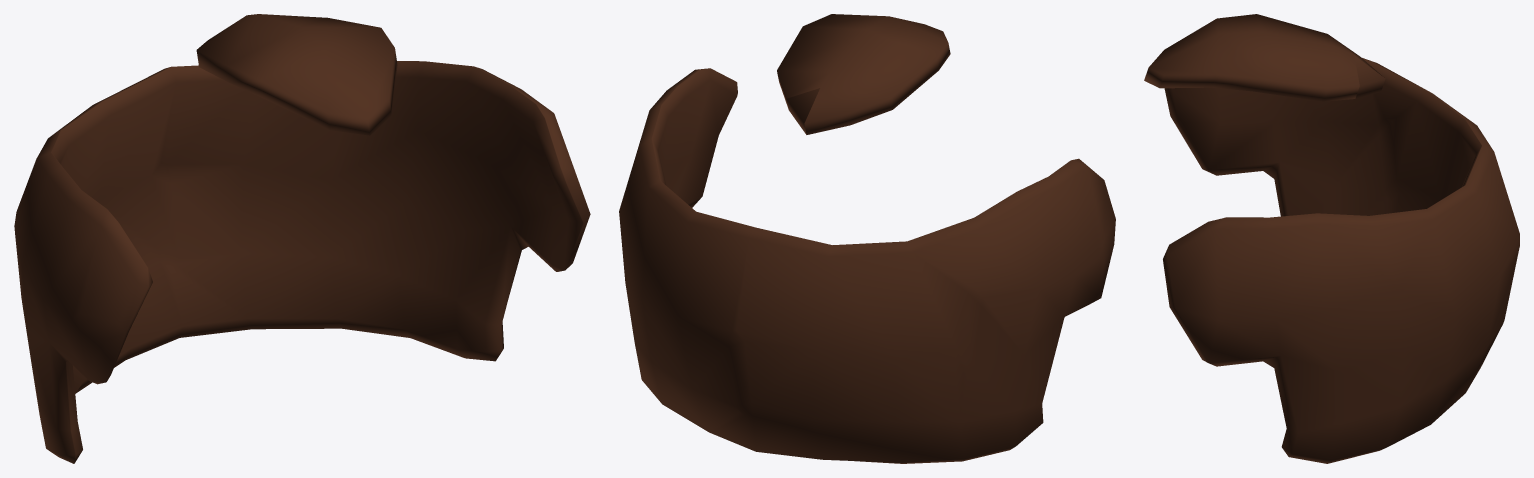
File: aa-hair-short-baldtop.glb
The picture shows the model from 3 angles, left to right: view 1: azimuth 30°, elevation 25°; view 2: azimuth 150°, elevation 25°; view 3: azimuth 270°, elevation 25°; orthographic projection. The views are drawn at different scales.
Visible parts, largest first — view 1: hairShortBaldtop; view 2: hairShortBaldtop; view 3: hairShortBaldtop.
Part boxes in pixels (<box>): hairShortBaldtop: <box>14,14,590,463</box>; hairShortBaldtop: <box>619,14,1115,463</box>; hairShortBaldtop: <box>1144,14,1519,463</box>.
Bounding box in the file's own units: 0.4939 × 0.3877 × 0.3796.
1 material, 1 textured.
